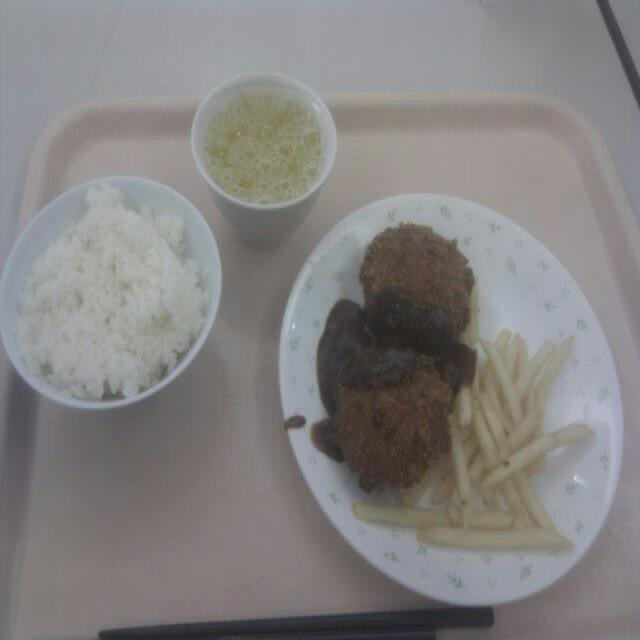Rice: (24, 190, 202, 400)
